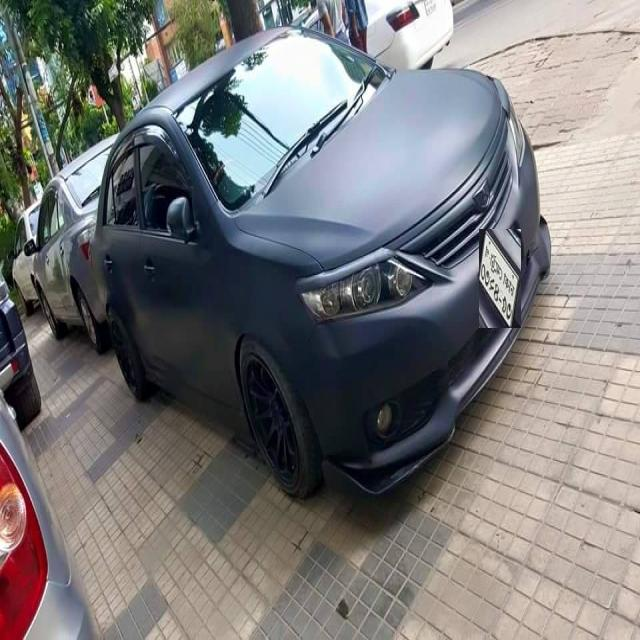numberplate: (479, 229, 521, 328)
